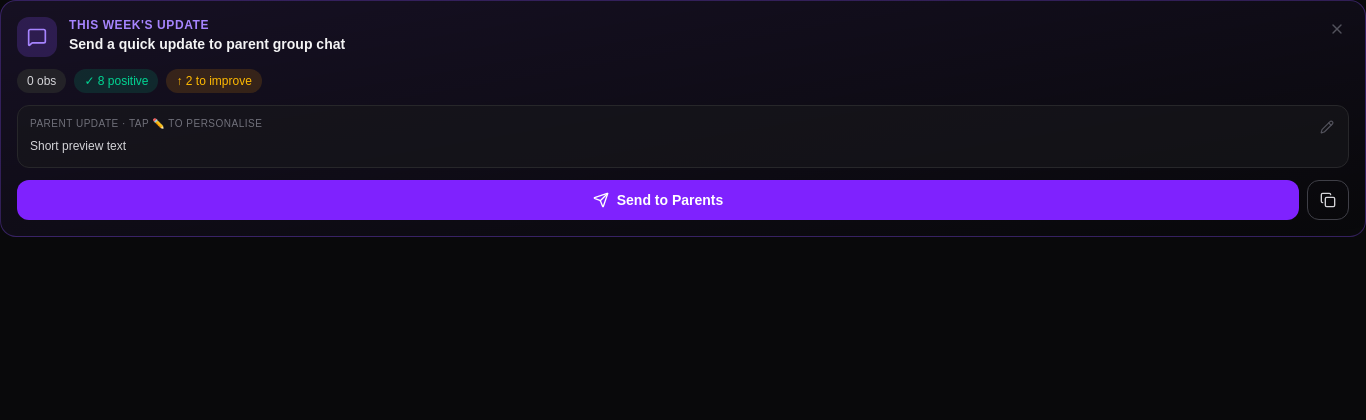
it: WeeklyWrapCard › pencil opens textarea pre-filled with the full generated message
This screenshot has width=1366, height=420.
Click the button named "Edit message before sending" at (1327, 127), box [1314,114,1340,140]
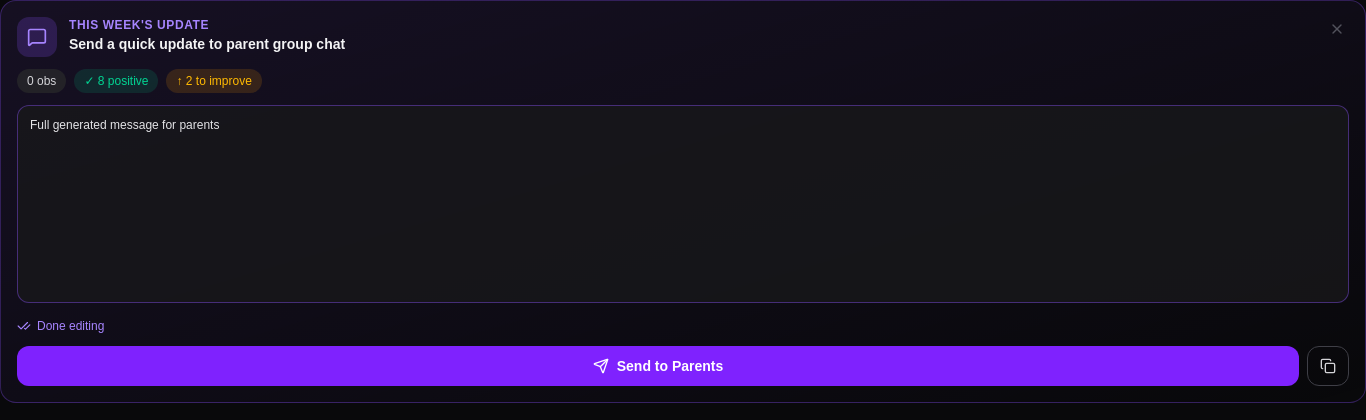
Check: the text box named "Edit parent update message" holds "Full generated message for parents", box [17,105,1349,302]
